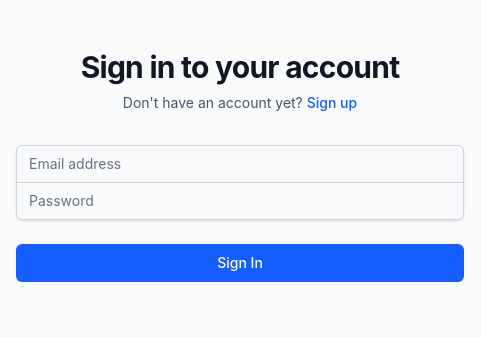
Test: Login › handles Error instance during login
Type "a@b.com" into the field with placeholder "Email address" at (240,164), box 16,144 -> 464,182
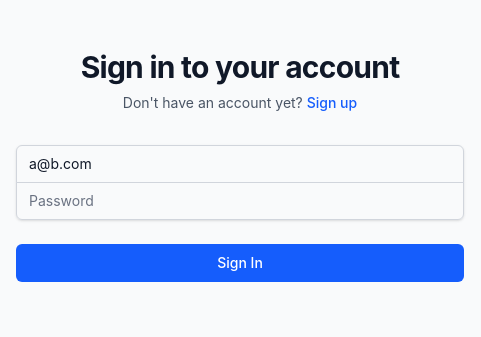
Type "pass" into the password field with placeholder "Password" at (240,200), box 16,182 -> 464,220
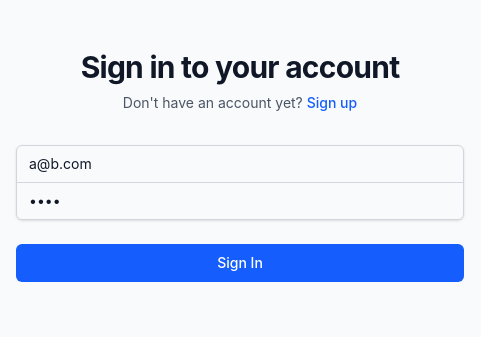
Click the button "Sign In" at (240,262), box 16,244 -> 464,282
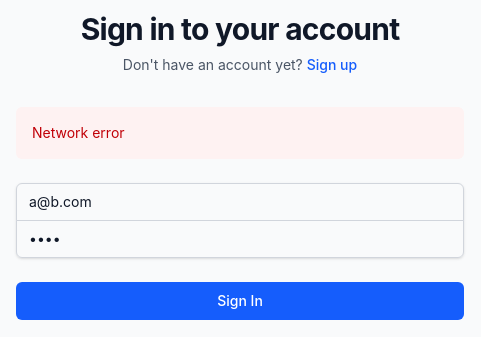
Expected: the text "Network error" is shown, 32,124 -> 125,140
